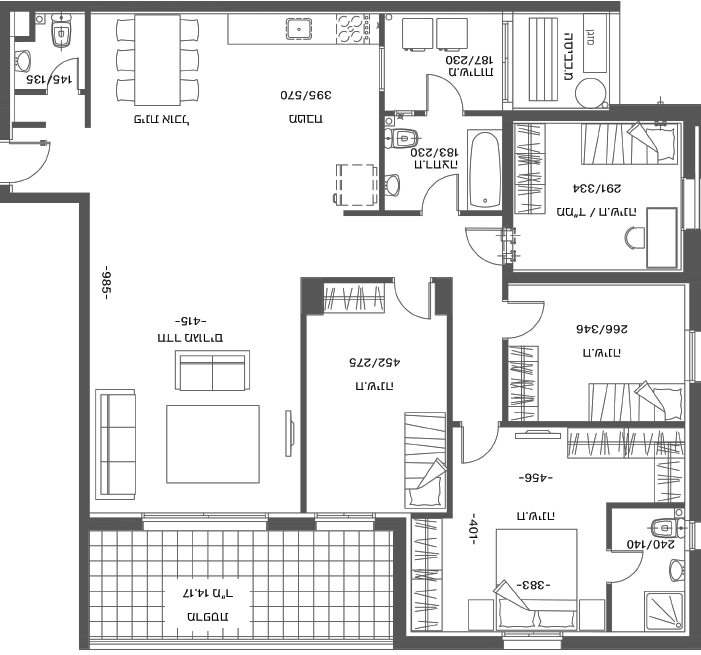wall: (11, 1, 620, 14), (79, 193, 90, 650), (503, 272, 683, 284), (561, 636, 701, 651), (393, 516, 407, 651), (392, 635, 503, 651), (447, 275, 453, 518), (301, 277, 307, 512), (499, 421, 685, 428), (502, 110, 513, 228), (502, 110, 609, 122), (81, 518, 143, 530), (267, 517, 315, 531), (374, 517, 407, 532)
